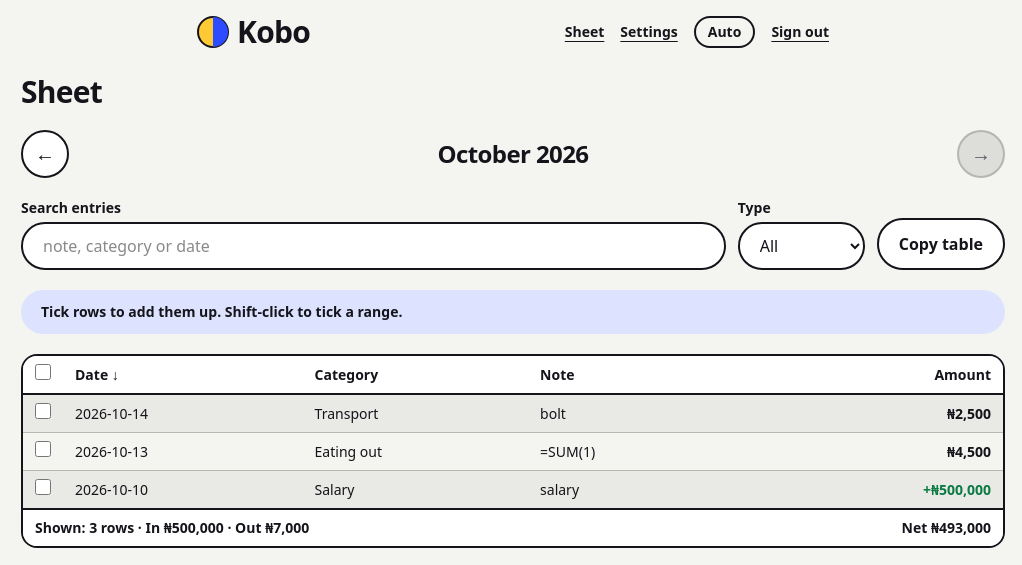
it: SheetPage › switches month and clears the selection
Step 1. Click the checkbox named "Select bolt, 2026-10-14" → [43, 411], box [35,403,51,419]
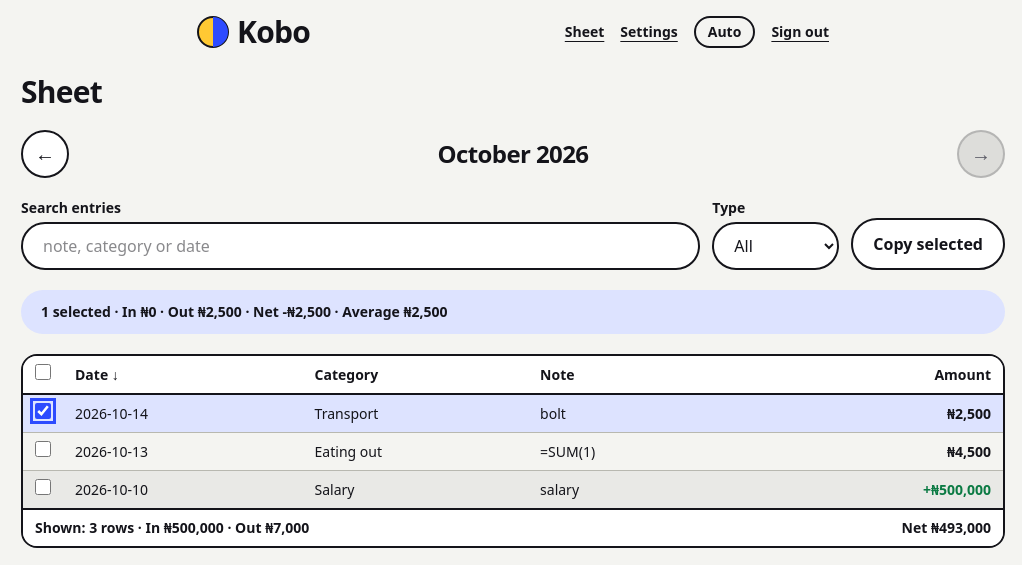
Step 2. Click the button named "Previous month" → [45, 154], box [21,130,69,178]
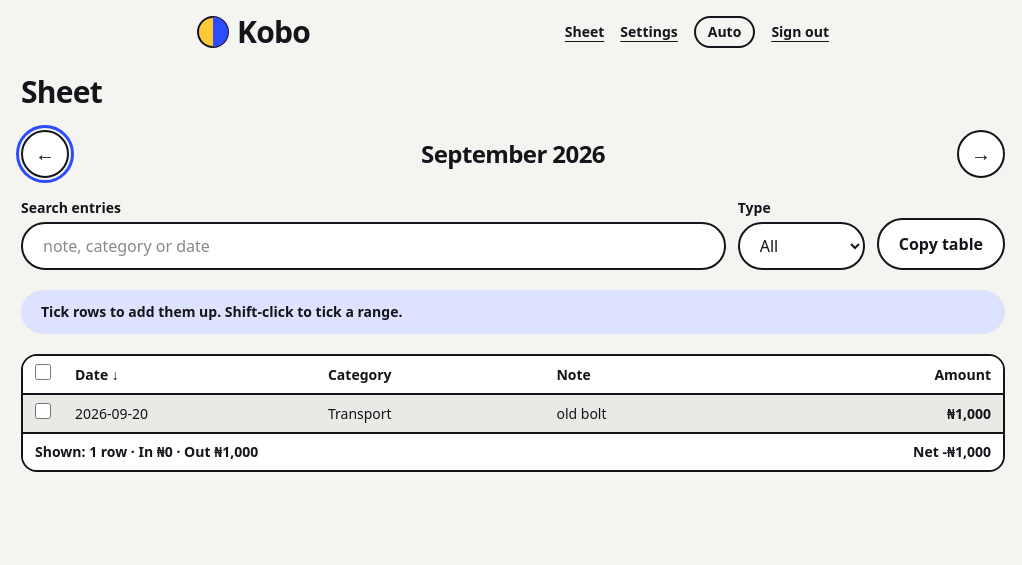
Expected: the text "old bolt" is shown, [544,395,738,433]
Expected: the message shows "Tick rows to add them up", [41,302,402,321]
